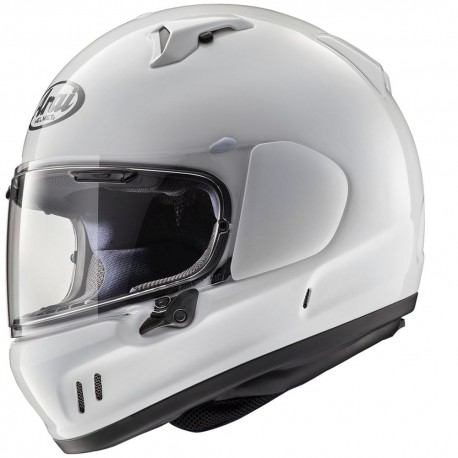with_helmet: (4, 1, 431, 455)
